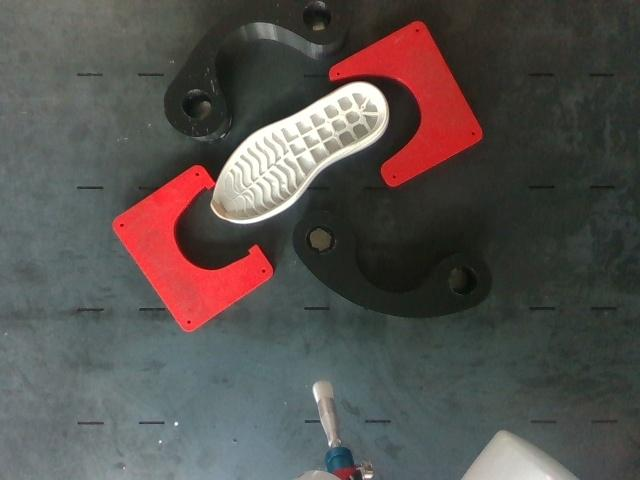shoes: (213, 83, 387, 221)
